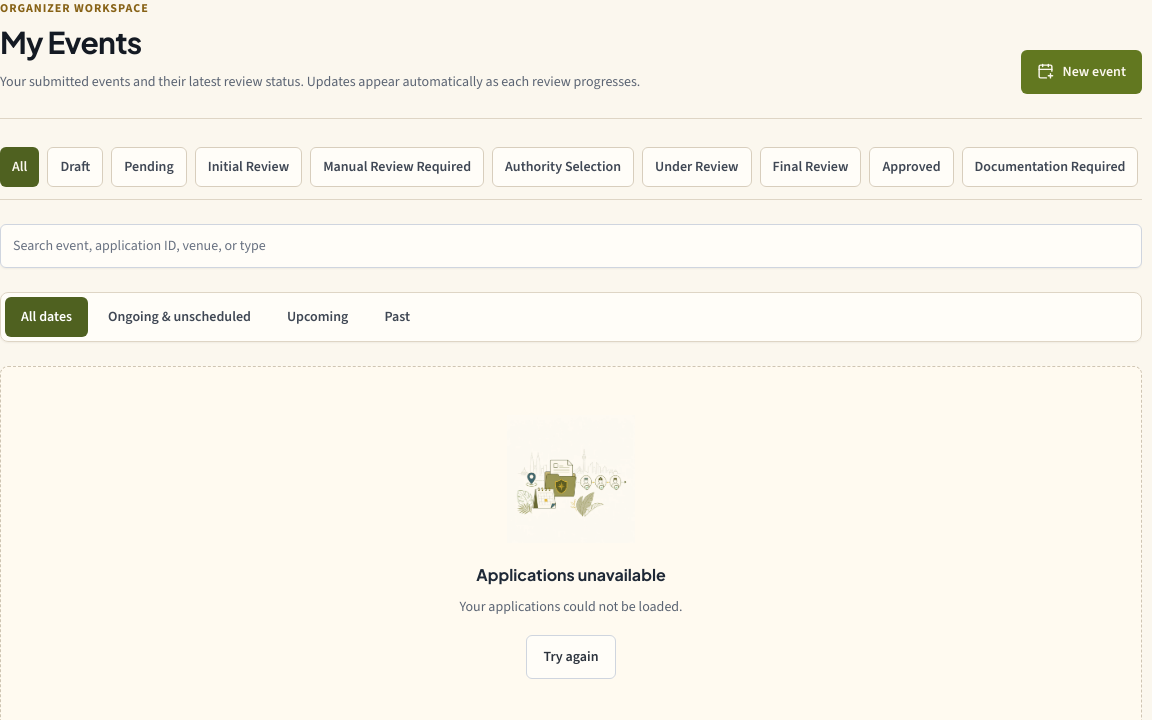
Test: MyEvents › shows a retryable error when the event listener fails
The image size is (1152, 720).
Expected: the heading "Applications unavailable" is shown, [476,564,666,584]
Click the button "Try again".
click(571, 656)  # box [526,634,616,678]
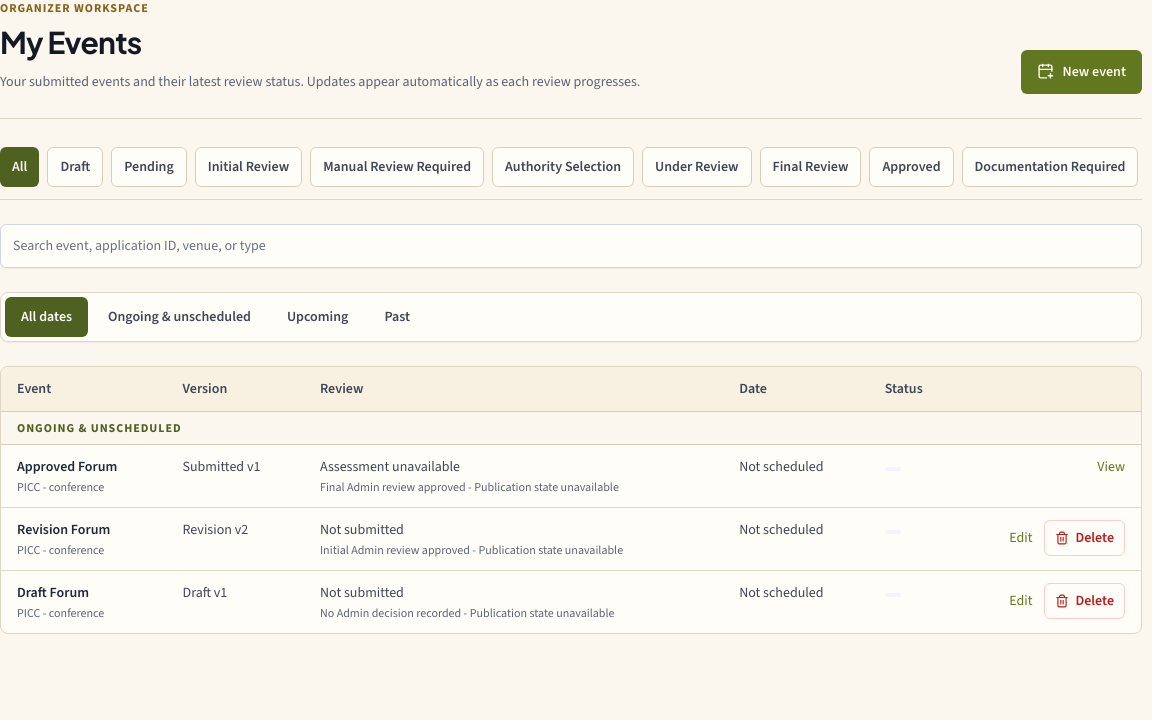
Expected: the text "Draft Forum" is shown, [17,582,89,602]
